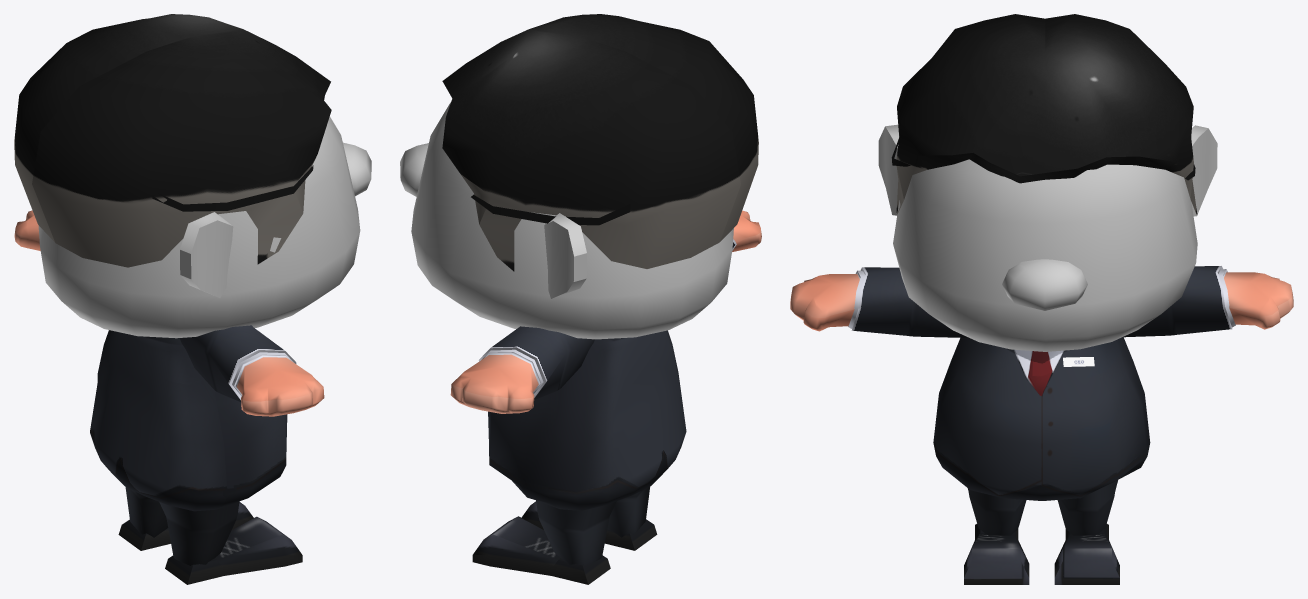
The model's file is Business_CEO_Male_riged.fbx.
3 renders of one model, left to right at view 1: azimuth 30°, elevation 25°; view 2: azimuth 150°, elevation 25°; view 3: azimuth 270°, elevation 25°, orthographic. The views are drawn at different scales.
Visible parts, largest first — view 1: Main_Hair1, Sponsor_Face, Main_Body, Main_Arm_R, Main_Leg_R, Ear_R, Main_Leg_L, HairDetail_1, Nose, Main_Arm_R1; view 2: Main_Hair1, Sponsor_Face, Main_Body, Main_Arm_R1, Main_Leg_L, Ear_L, Main_Leg_R, HairDetail_2, Nose, Main_Arm_R; view 3: Sponsor_Face, Main_Hair1, Main_Body, Main_Arm_R, Main_Arm_R1, Main_Leg_L, Main_Leg_R, Nose, Ear_L, Ear_R.
Boxes of the visible parts, left/top/right/bottom form: Main_Hair1: left=14, top=14, right=331, bottom=267; Sponsor_Face: left=38, top=116, right=360, bottom=338; Main_Body: left=90, top=330, right=287, bottom=511; Main_Arm_R: left=179, top=325, right=324, bottom=416; Main_Leg_R: left=159, top=501, right=302, bottom=584; Ear_R: left=180, top=212, right=233, bottom=297; Main_Leg_L: left=118, top=486, right=253, bottom=550; HairDetail_1: left=152, top=165, right=313, bottom=211; Nose: left=343, top=142, right=371, bottom=196; Main_Arm_R1: left=14, top=210, right=40, bottom=250; Main_Hair1: left=442, top=14, right=758, bottom=271; Sponsor_Face: left=411, top=102, right=733, bottom=339; Main_Body: left=488, top=330, right=686, bottom=510; Main_Arm_R1: left=450, top=326, right=594, bottom=413; Main_Leg_L: left=472, top=500, right=616, bottom=584; Ear_L: left=544, top=213, right=586, bottom=298; Main_Leg_R: left=521, top=486, right=657, bottom=550; HairDetail_2: left=471, top=194, right=630, bottom=225; Nose: left=400, top=143, right=428, bottom=196; Main_Arm_R: left=732, top=210, right=761, bottom=251; Sponsor_Face: left=893, top=159, right=1197, bottom=351; Main_Hair1: left=896, top=14, right=1197, bottom=214; Main_Body: left=933, top=337, right=1150, bottom=500; Main_Arm_R: left=790, top=267, right=968, bottom=337; Main_Arm_R1: left=1122, top=266, right=1293, bottom=337; Main_Leg_L: left=1054, top=480, right=1119, bottom=584; Main_Leg_R: left=964, top=488, right=1029, bottom=584; Nose: left=1002, top=259, right=1087, bottom=310; Ear_L: left=1191, top=125, right=1217, bottom=216; Ear_R: left=878, top=124, right=898, bottom=215.
Bounding box in the file's own units: 5.03 × 7.31 × 6.6.
